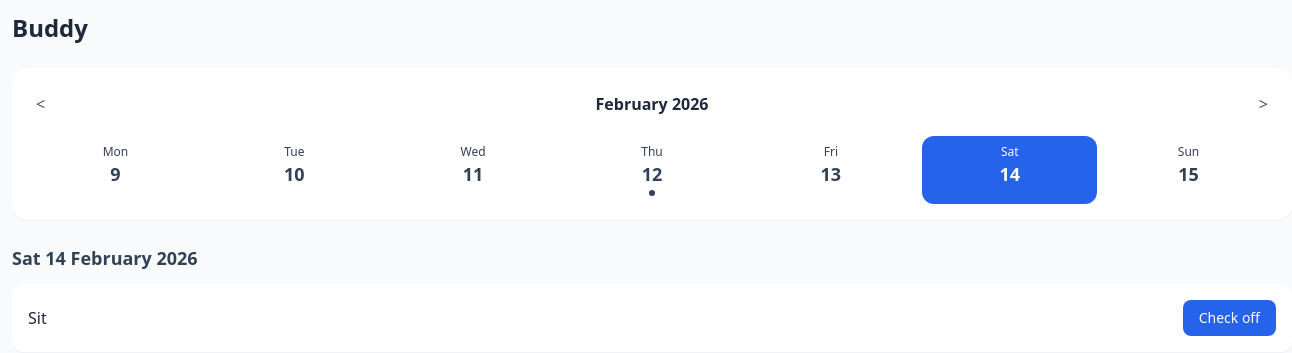
Test case: Progress › clicking a different day shows that days sessions
Expected: the text "Sit" is shown, x1=28 y1=306 x2=47 y2=330
Note: Click Thursday (Feb 12)
Click the button "Thu 12".
click(652, 170)  # box x1=565 y1=136 x2=740 y2=204
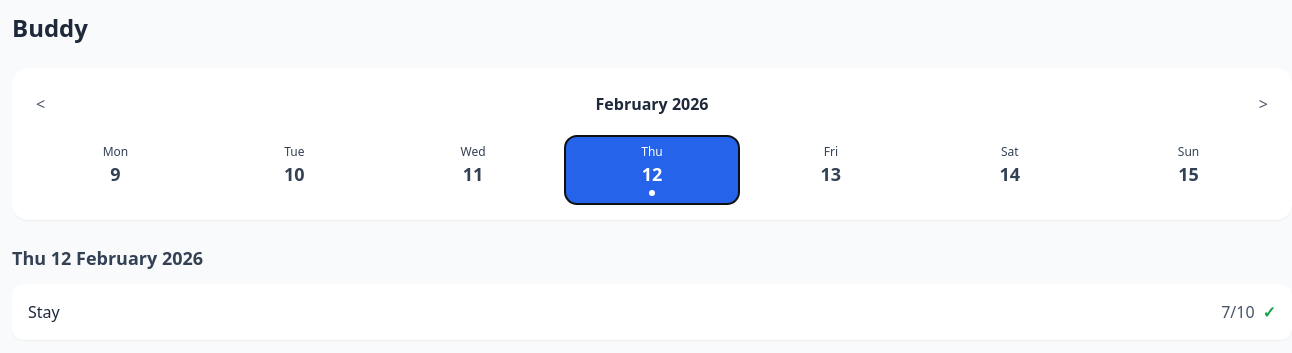
Expected: the text "Stay" is shown, x1=28 y1=300 x2=60 y2=324
Expected: the text "7/10" is shown, x1=1221 y1=300 x2=1255 y2=324
